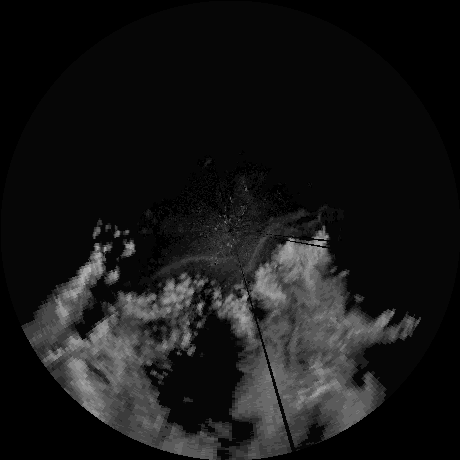frontgust: (243, 219, 320, 273), (152, 252, 237, 279)
